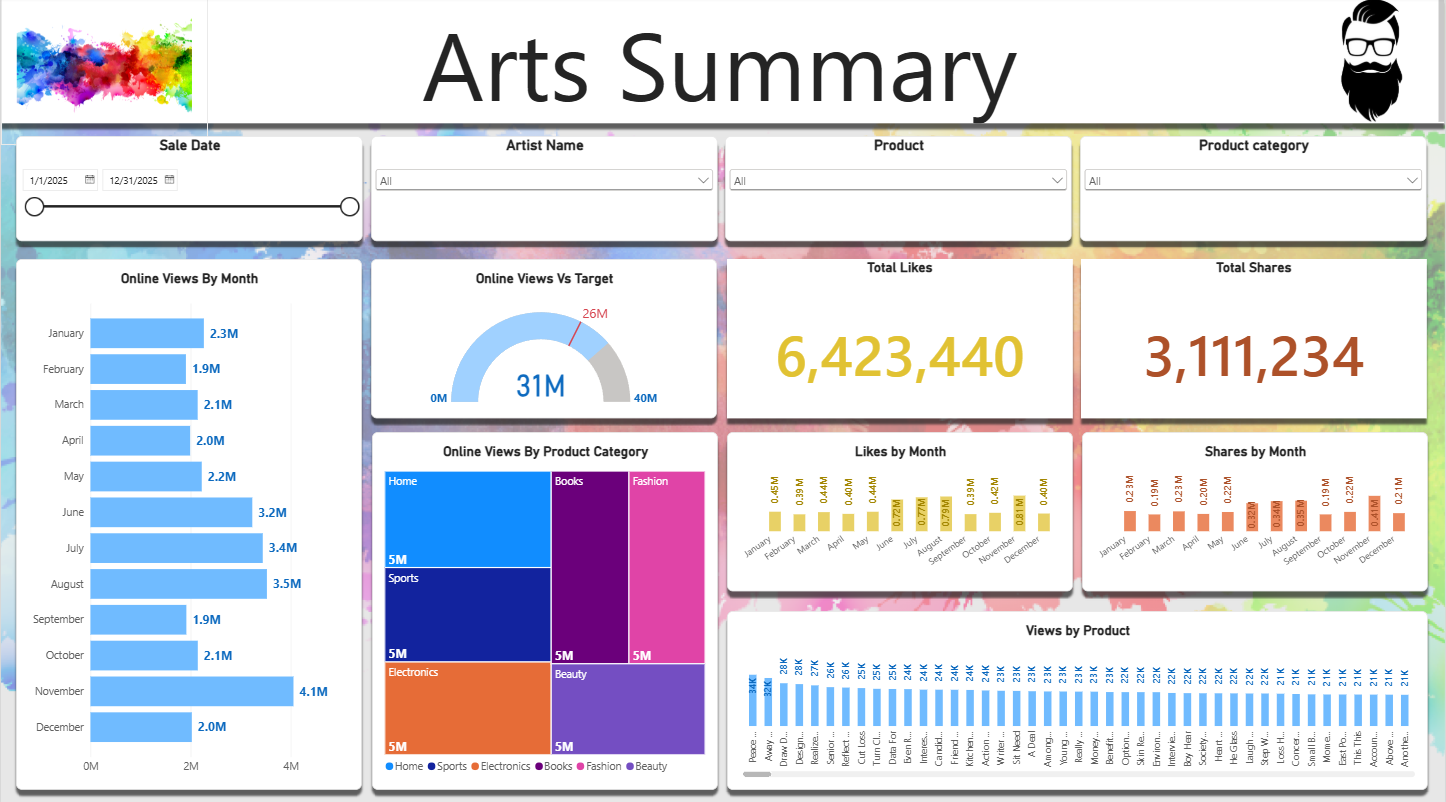

The dashboard page shown, as its layout file describes it:
{"tool":"powerbi","page":{"name":"Page 1","canvas":[1920,1080],"ordinal":0},"visuals":[{"type":"image","box":[0,0,1920,1080],"z":0},{"type":"shape","box":[0,150,1920,930],"z":1000},{"type":"textbox","box":[0,0,1920,167.5],"z":2000},{"type":"image","box":[1725,0,195,167.5],"z":3000},{"type":"image","box":[0,0,275,197.5],"z":4000},{"type":"slicer","title":"Sale Date","fields":{"Values":["Sheet1.Date of Sale"]},"box":[20,185,461,140],"z":5000},{"type":"slicer","title":"Artist Name","fields":{"Values":["Sheet1.Artist Name"]},"box":[491.7,185,461,140],"z":6000},{"type":"slicer","title":"Product","fields":{"Values":["Sheet1.Product"]},"box":[963.3,185,461,140],"z":7000},{"type":"slicer","title":"Product category","fields":{"Values":["Sheet1.Product Category"]},"box":[1435,185,461,140],"z":8000},{"type":"clusteredBarChart","title":"Online Views By Month","fields":{"Category":["Sheet1.Date of Sale.Variation.Date Hierarchy.Month"],"Y":["Sum(Sheet1.Online Views)"]},"box":[20,348,460,706],"z":9000},{"type":"gauge","title":"Online Views Vs Target","fields":{"TargetValue":["Sum(Sheet1.Online Views Target)"],"Y":["Sum(Sheet1.Online Views)"]},"box":[492,348,460,212],"z":10000},{"type":"cardVisual","title":"Total Likes","fields":{"Data":["Sum(Sheet1.Likes)"]},"box":[966,348,460,212],"z":11000},{"type":"cardVisual","title":"Total Shares","fields":{"Data":["Sum(Sheet1.Shares)"]},"box":[1436,348,460,212],"z":12000},{"type":"clusteredColumnChart","title":"Likes by Month","fields":{"Category":["Sheet1.Date of Sale.Variation.Date Hierarchy.Month"],"Y":["Sum(Sheet1.Likes)"]},"box":[966,578,460,212],"z":13000},{"type":"clusteredColumnChart","title":"Shares by  Month","fields":{"Category":["Sheet1.Date of Sale.Variation.Date Hierarchy.Month"],"Y":["Sum(Sheet1.Shares)"]},"box":[1438,578,460,212],"z":14000},{"type":"treemap","title":"Online Views By Product Category","fields":{"Group":["Sheet1.Product Category"],"Values":["Sum(Sheet1.Online Views)"]},"box":[494,578,460,476],"z":15000},{"type":"clusteredColumnChart","title":"Views by Product","fields":{"Category":["Sheet1.Product"],"Y":["Sum(Sheet1.Online Views)"]},"box":[966,816,932,238],"z":16000}]}

Visuals, with their boxes in screenshot pixels (x1, y1, x2, y2), scaled from the page's 1920x1080 canvas onto the 1446x802 screenshot:
image: {"left": 0, "top": 0, "right": 1445, "bottom": 801}
shape: {"left": 0, "top": 111, "right": 1445, "bottom": 801}
textbox: {"left": 0, "top": 0, "right": 1445, "bottom": 124}
image: {"left": 1299, "top": 0, "right": 1445, "bottom": 124}
image: {"left": 0, "top": 0, "right": 207, "bottom": 147}
"Sale Date" slicer: {"left": 15, "top": 137, "right": 362, "bottom": 241}
"Artist Name" slicer: {"left": 370, "top": 137, "right": 718, "bottom": 241}
"Product" slicer: {"left": 725, "top": 137, "right": 1073, "bottom": 241}
"Product category" slicer: {"left": 1081, "top": 137, "right": 1428, "bottom": 241}
"Online Views By Month" clusteredBarChart: {"left": 15, "top": 258, "right": 362, "bottom": 783}
"Online Views Vs Target" gauge: {"left": 371, "top": 258, "right": 717, "bottom": 416}
"Total Likes" cardVisual: {"left": 728, "top": 258, "right": 1074, "bottom": 416}
"Total Shares" cardVisual: {"left": 1081, "top": 258, "right": 1428, "bottom": 416}
"Likes by Month" clusteredColumnChart: {"left": 728, "top": 429, "right": 1074, "bottom": 587}
"Shares by  Month" clusteredColumnChart: {"left": 1083, "top": 429, "right": 1429, "bottom": 587}
"Online Views By Product Category" treemap: {"left": 372, "top": 429, "right": 718, "bottom": 783}
"Views by Product" clusteredColumnChart: {"left": 728, "top": 606, "right": 1429, "bottom": 783}
